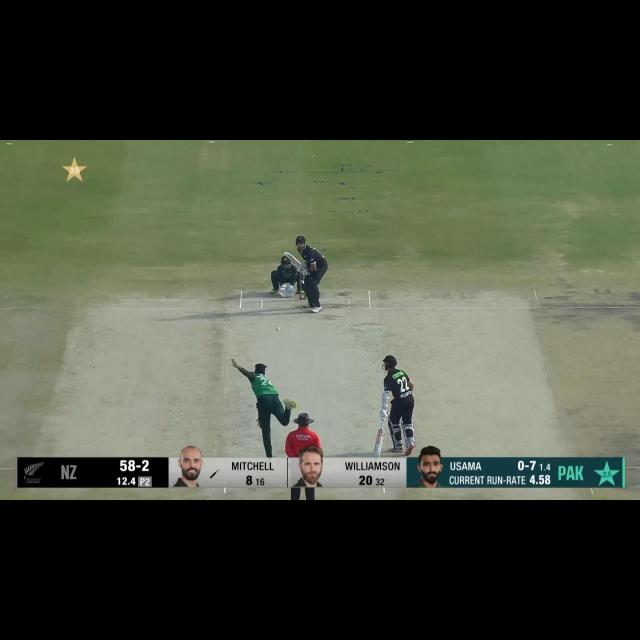bat: (372, 427, 386, 460), (283, 250, 301, 267)
toe: (372, 453, 381, 458), (283, 250, 289, 257)
